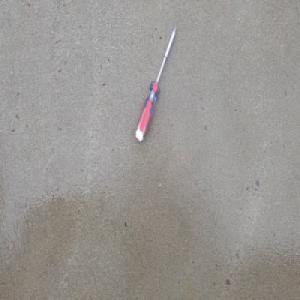Screwdriver: (134, 22, 178, 143)
